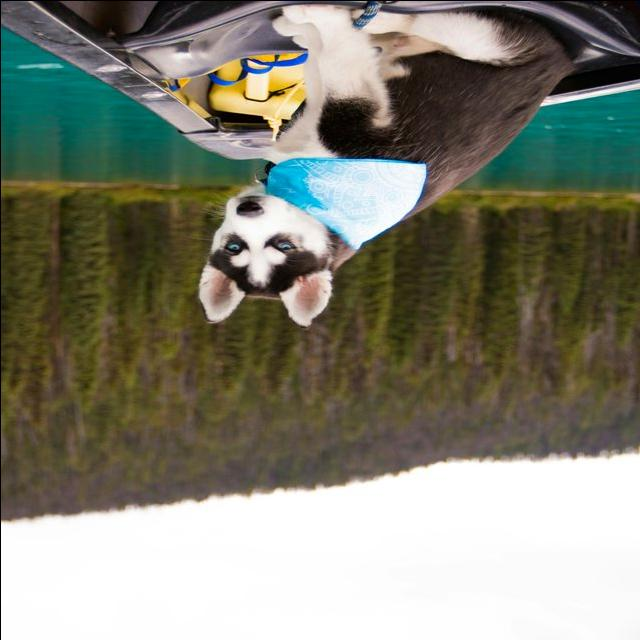husky: (195, 3, 577, 329)
